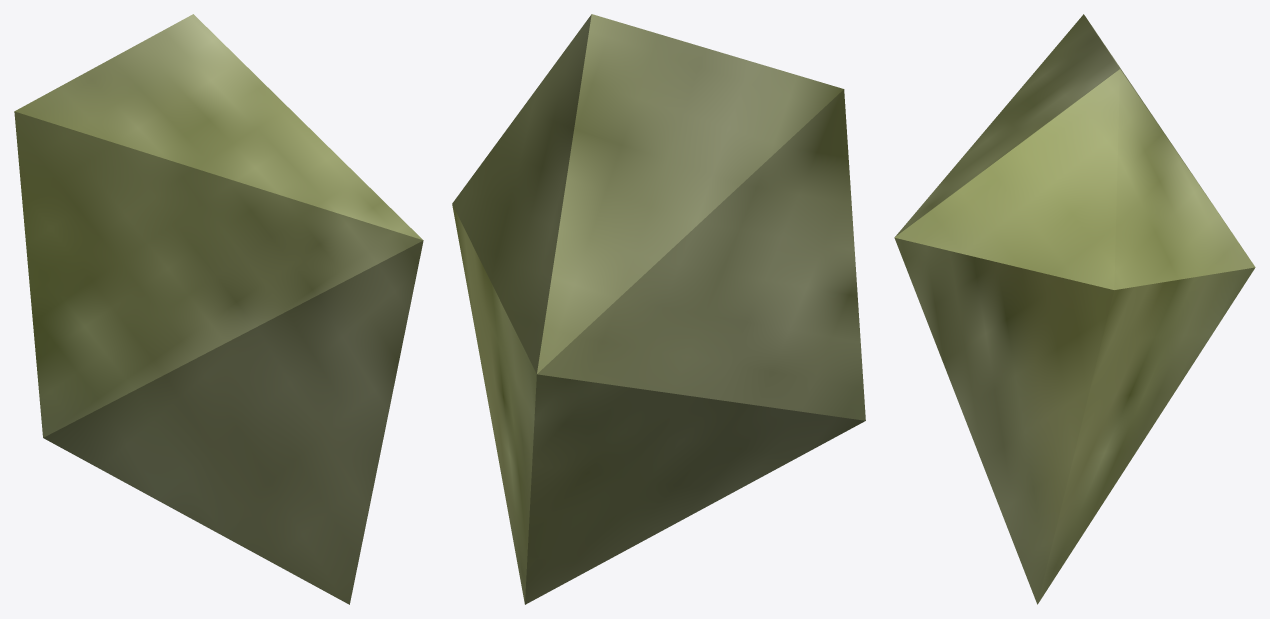
3 views of the same model, side by side, from view 1: azimuth 30°, elevation 25°; view 2: azimuth 150°, elevation 25°; view 3: azimuth 270°, elevation 25° (orthographic). The views are drawn at different scales.
Bounding box in the file's own units: 0.0985 × 0.1676 × 0.1116.
Materials: 1 (1 with a texture image).
